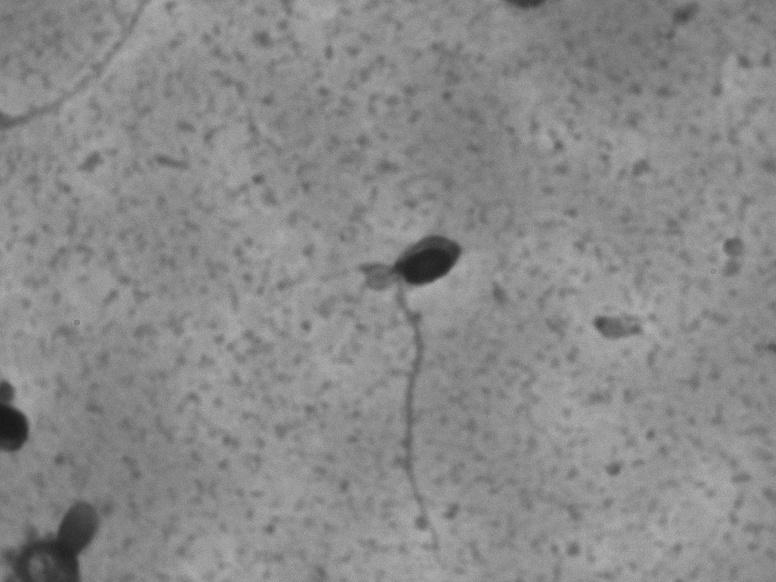Abnormal: (338, 208, 489, 565)
